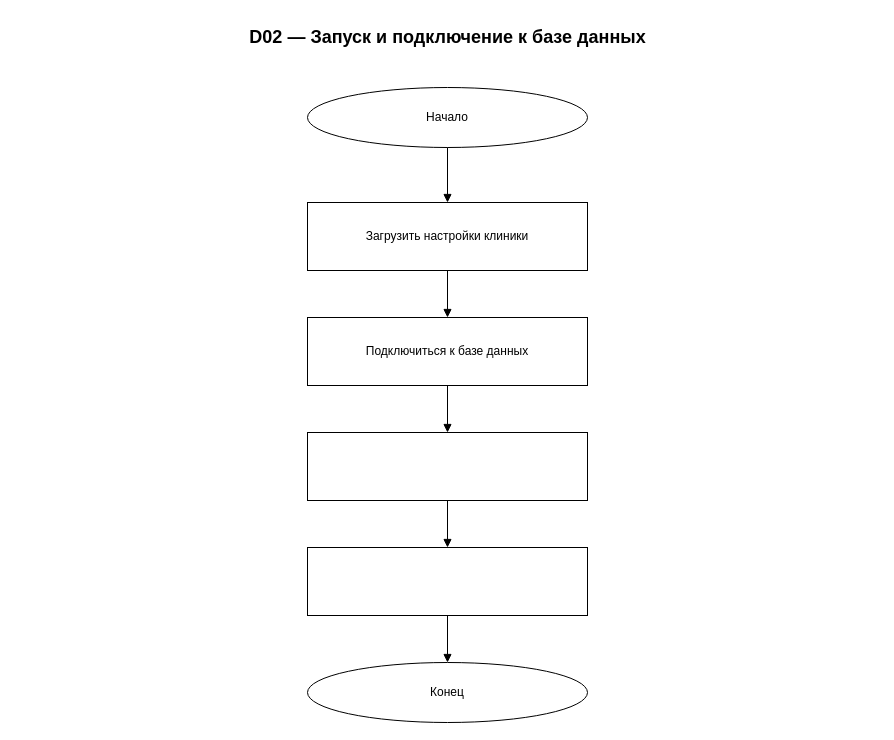
Some shapes in this 894 by 740 pixel diagram are drawn without their labels. The centre of each missing label's shape, as x and y in pixels:
"Открыть окно входа или показать ошибку" belongs at point 447,581.
"Проверить доступность соединения" belongs at point 447,466.
